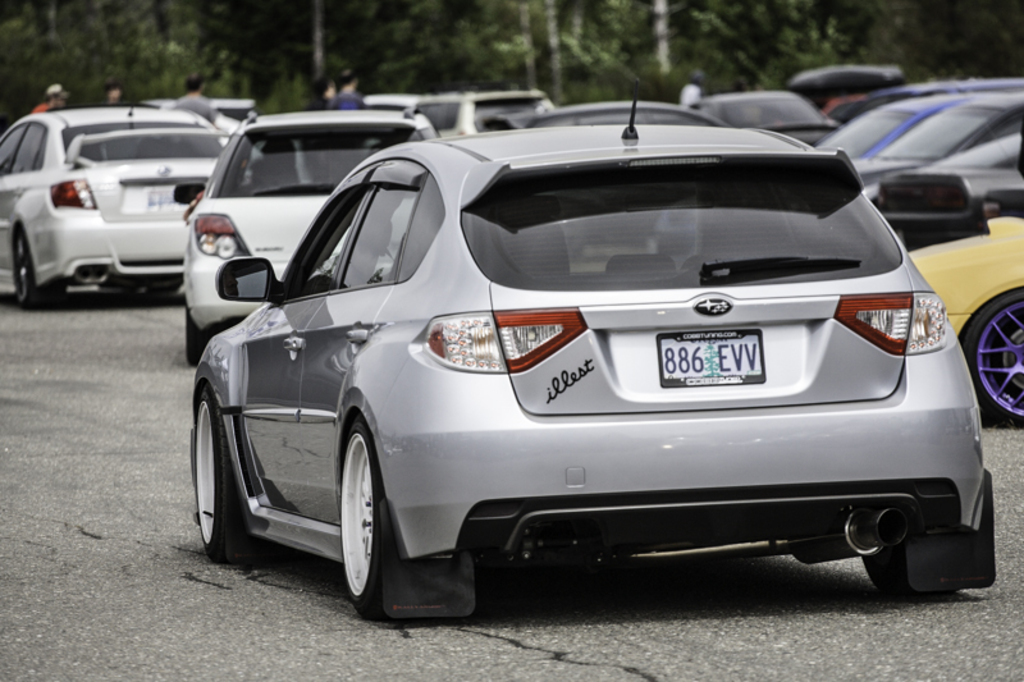Car: (0, 58, 1022, 624)
